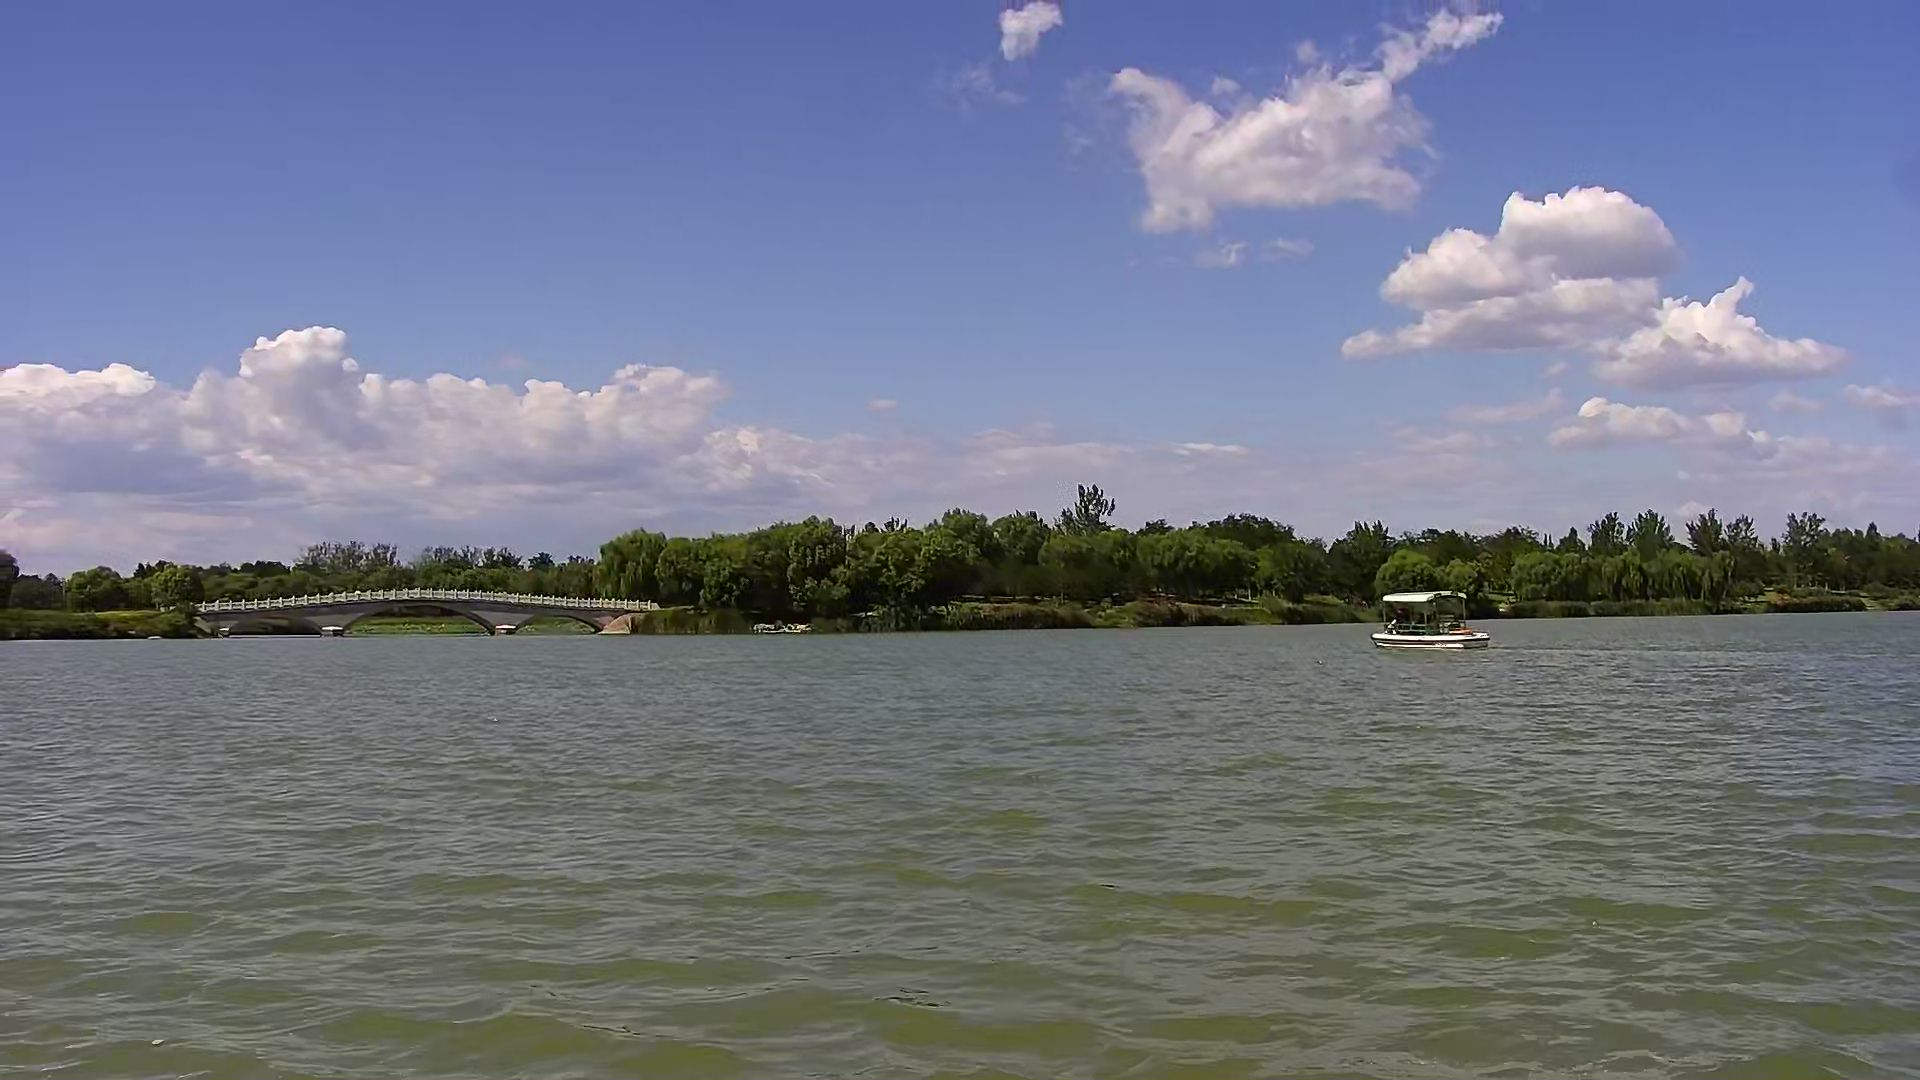boat: (1370, 587, 1487, 657)
bridge: (207, 589, 630, 641)
